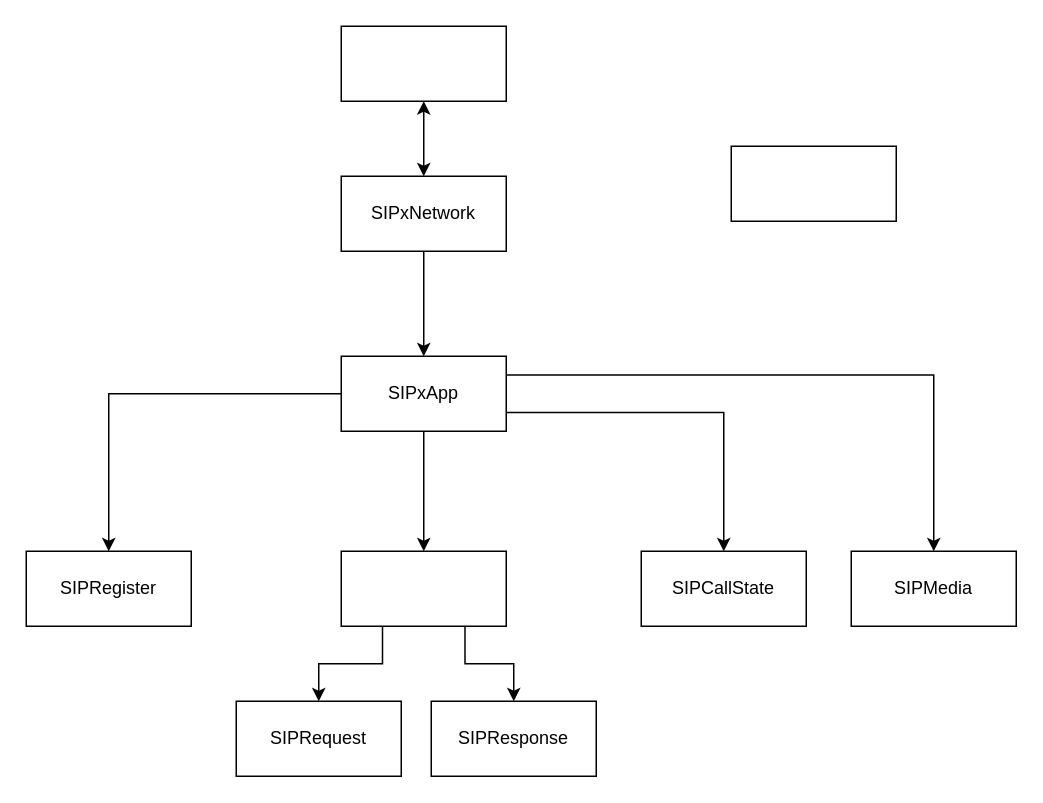
Some shapes in this 1043 by 803 pixel diagram are drawn without their labels. The shapes that lost their labels are listed below. From the top down, each one's centre as x and y in pixels, then its label:
point (423, 63): NIC/OS
point (813, 183): SIPLogWriter
point (423, 588): SIPMessage
